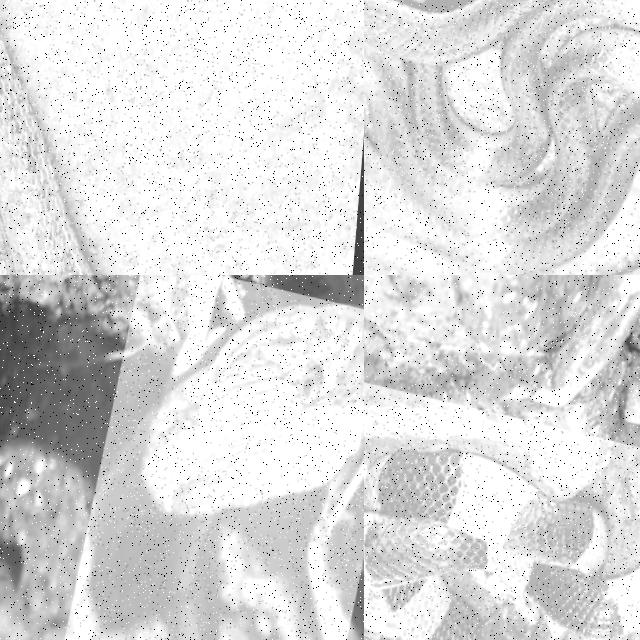Bungarus fasciatus: (364, 449, 639, 639)
Calliophis intestinalis: (364, 0, 639, 274)
Daboia siamensis: (74, 304, 363, 639)
Ovophis monticola: (0, 36, 92, 274)
snake: (74, 304, 363, 639), (364, 0, 639, 274), (364, 449, 639, 639), (0, 36, 92, 274)
